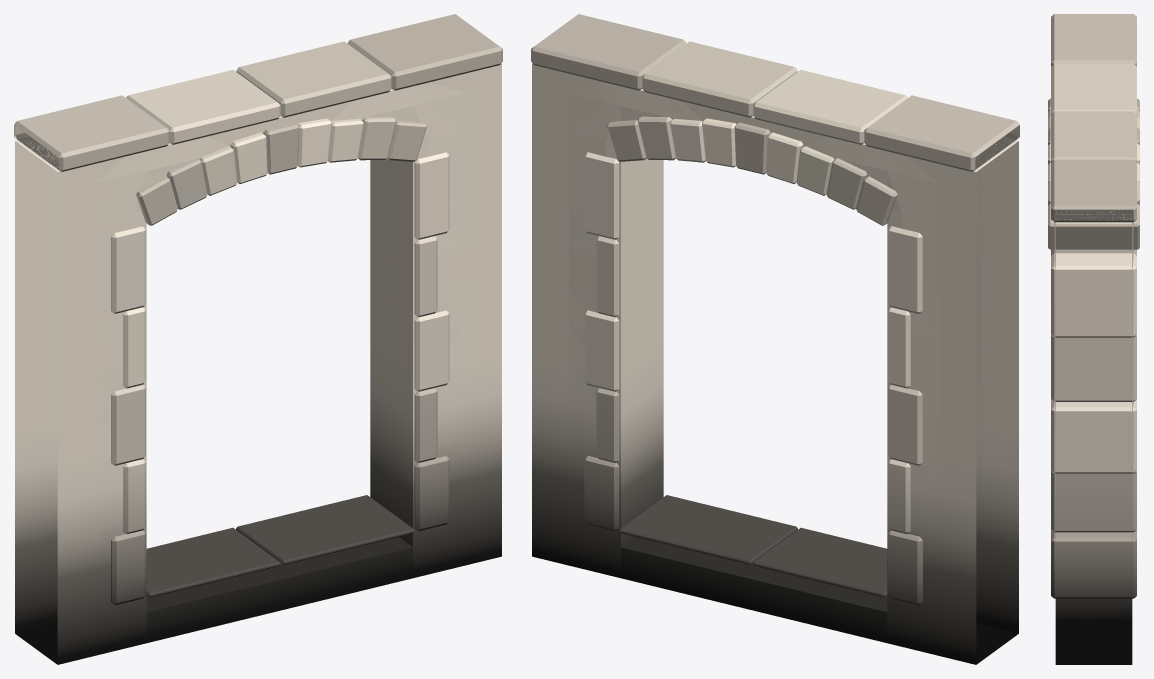
The model's file is SM_VKI_Wall_Dungeon_DoorWide_300_Full.fbx.
3 renders of one model, left to right at view 1: azimuth 30°, elevation 25°; view 2: azimuth 150°, elevation 25°; view 3: azimuth 270°, elevation 25°, orthographic. The views are drawn at different scales.
Parts seen in each view (by area): view 1: SM_VKI_Wall_Dungeon_DoorWide_300_Full.001; view 2: SM_VKI_Wall_Dungeon_DoorWide_300_Full.001; view 3: SM_VKI_Wall_Dungeon_DoorWide_300_Full.001.
Part boxes in pixels (left/top/right/bottom): SM_VKI_Wall_Dungeon_DoorWide_300_Full.001: left=14, top=14, right=502, bottom=664; SM_VKI_Wall_Dungeon_DoorWide_300_Full.001: left=531, top=14, right=1019, bottom=664; SM_VKI_Wall_Dungeon_DoorWide_300_Full.001: left=1048, top=14, right=1139, bottom=664.
Size of the model in its own units: 3 by 3.3 by 0.6.
